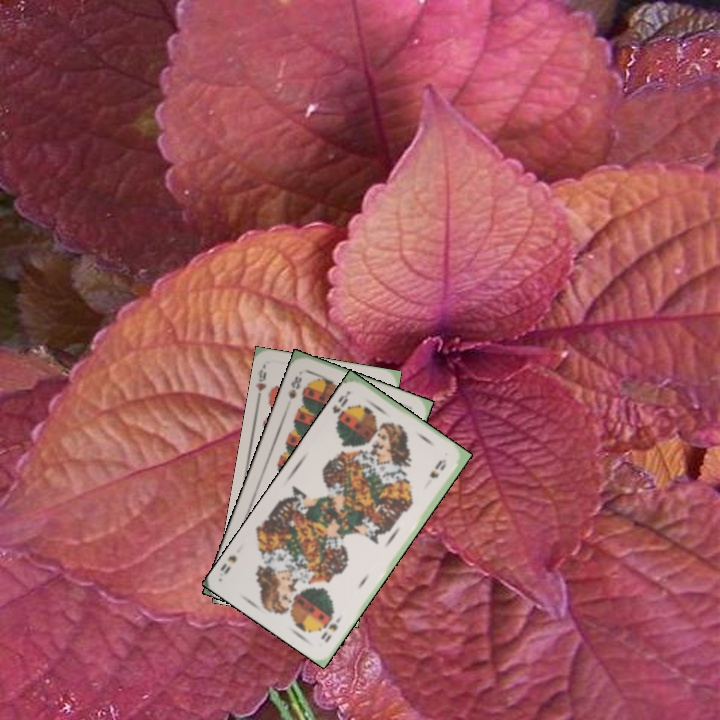H9: (252, 362, 269, 403)
S8: (284, 372, 305, 402)
SO: (328, 387, 352, 428), (317, 613, 344, 645)
